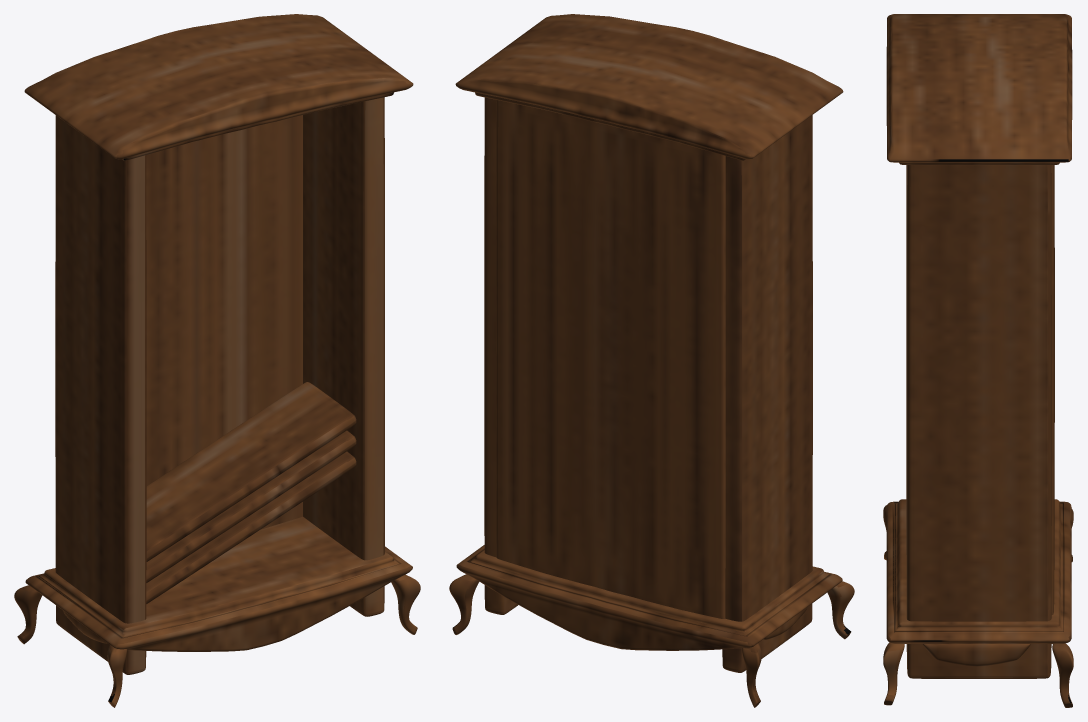
The model's file is BrokenCabinet.fbx.
The picture shows the model from 3 angles, left to right: view 1: azimuth 30°, elevation 25°; view 2: azimuth 150°, elevation 25°; view 3: azimuth 270°, elevation 25°; orthographic projection.
Visible parts, largest first — view 1: EstanteQuebrad_LOD0; view 2: EstanteQuebrad_LOD0; view 3: EstanteQuebrad_LOD0.
Boxes of the visible parts, <box> form: EstanteQuebrad_LOD0: <box>14,14,420,707</box>; EstanteQuebrad_LOD0: <box>449,14,854,707</box>; EstanteQuebrad_LOD0: <box>883,14,1073,707</box>.
Size of what is drawn, in the model's own units: 125 by 222 by 66.72.
